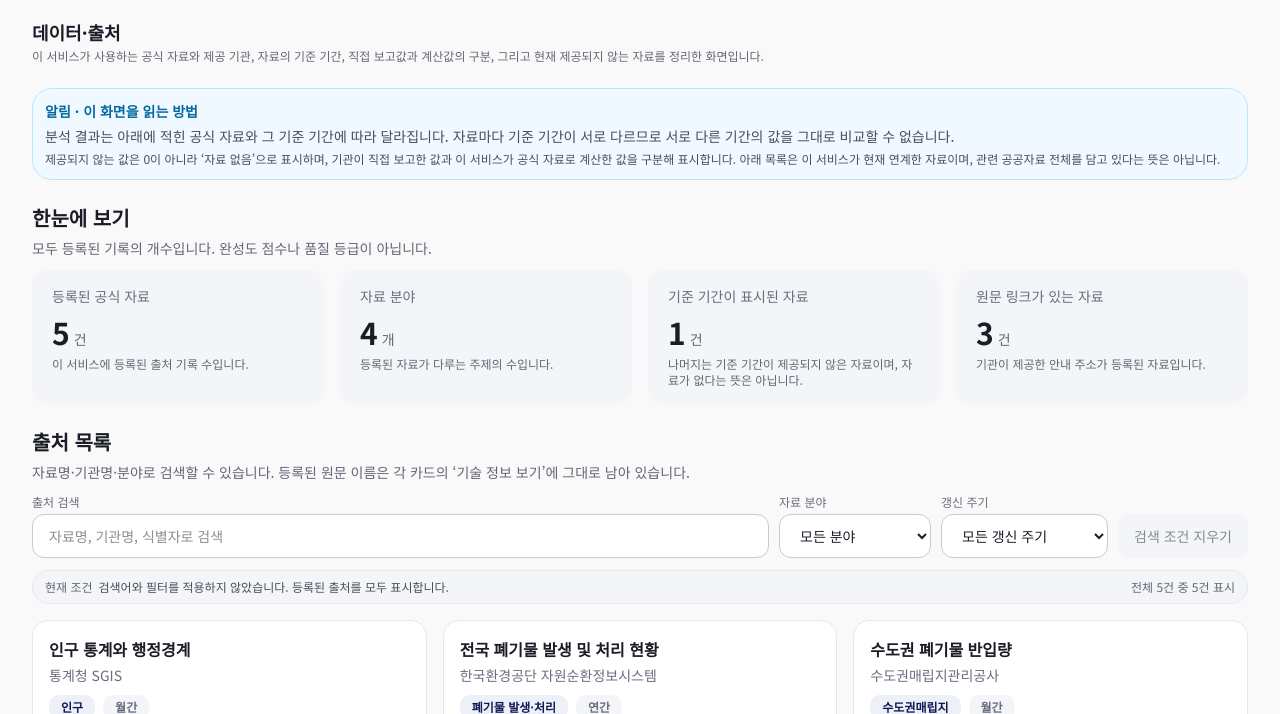
source search › finds a record by its dataset identifier without titling the card with it
Type "15064381" into the search field with test id "transparency-search" at (400, 536), box x1=32 y1=514 x2=769 y2=558
(page scrolled)
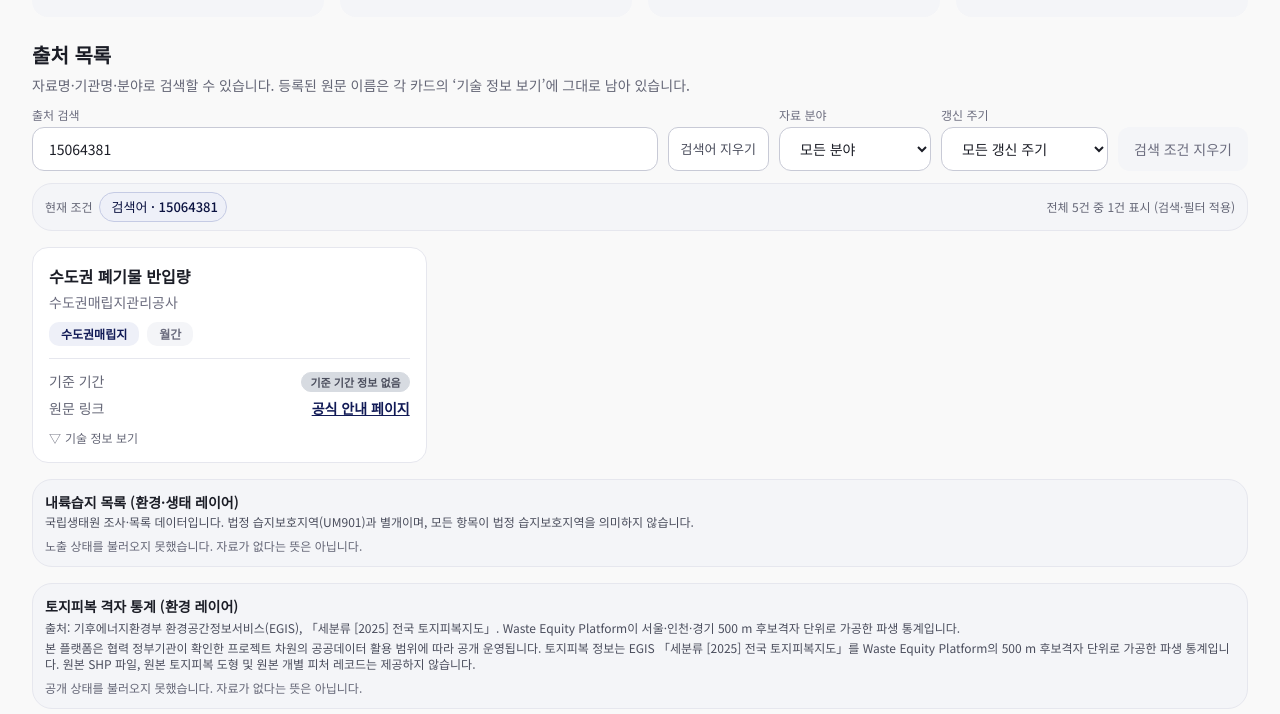
Expected: the text "수도권 폐기물 반입량" is shown, x1=49 y1=264 x2=190 y2=288
Result: the number of list items with test id "transparency-source-card" is 1 at x1=32 y1=246 x2=427 y2=463
